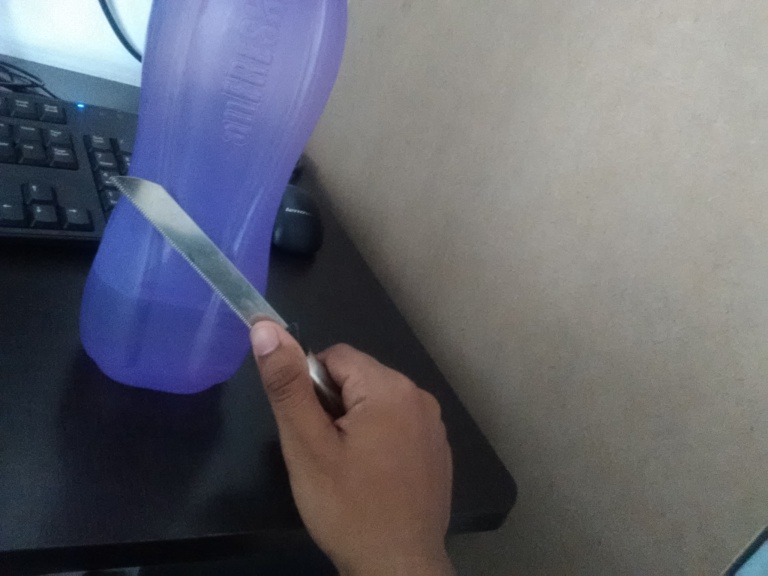knife: (107, 170, 260, 317)
